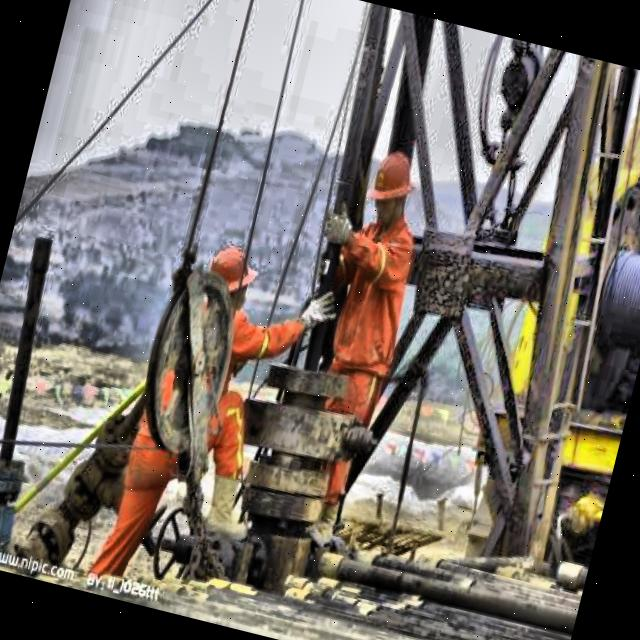helmet: (360, 143, 424, 234), (194, 236, 258, 325)
